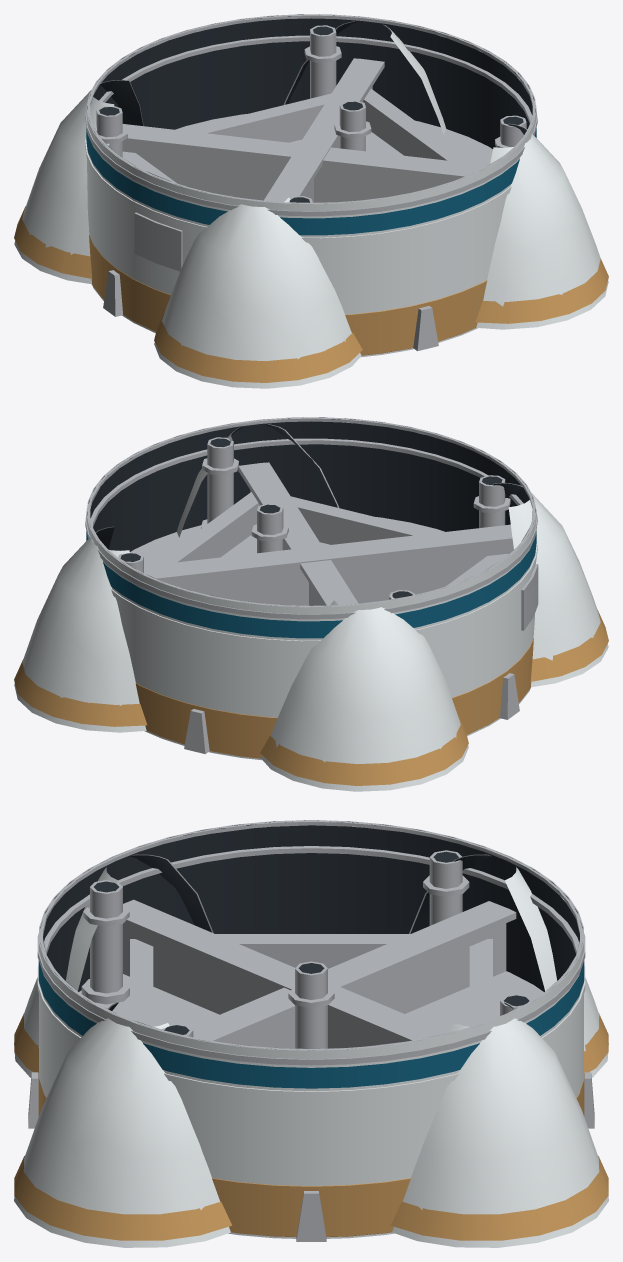
File: mount_s1_5_d84.glb
3 views of the same model, one above another, from view 1: azimuth 30°, elevation 25°; view 2: azimuth 150°, elevation 25°; view 3: azimuth 270°, elevation 25° (orthographic). The views are drawn at different scales.
Visible parts, largest first — view 1: mount_s1_5_d84_mesh; view 2: mount_s1_5_d84_mesh; view 3: mount_s1_5_d84_mesh.
Part boxes in pixels (left/top/right/bottom): mount_s1_5_d84_mesh: left=14, top=14, right=608, bottom=388; mount_s1_5_d84_mesh: left=14, top=417, right=608, bottom=791; mount_s1_5_d84_mesh: left=14, top=820, right=608, bottom=1247.
Size of the model in its own units: 9.15 by 3.2 by 9.15.
